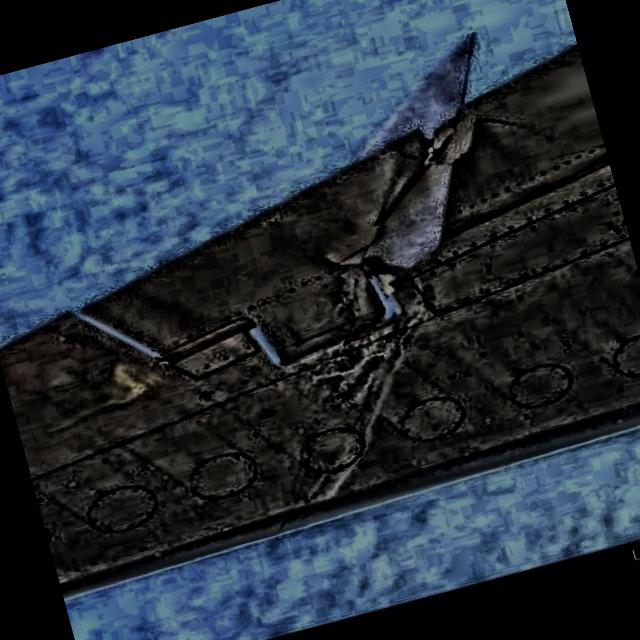crack: (284, 98, 556, 295)
